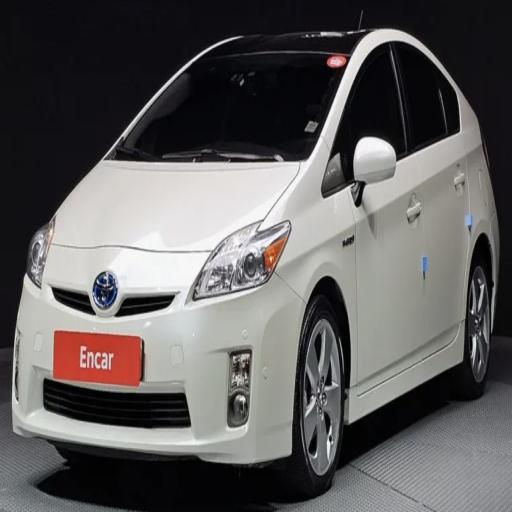normal: (10, 14, 502, 489)
